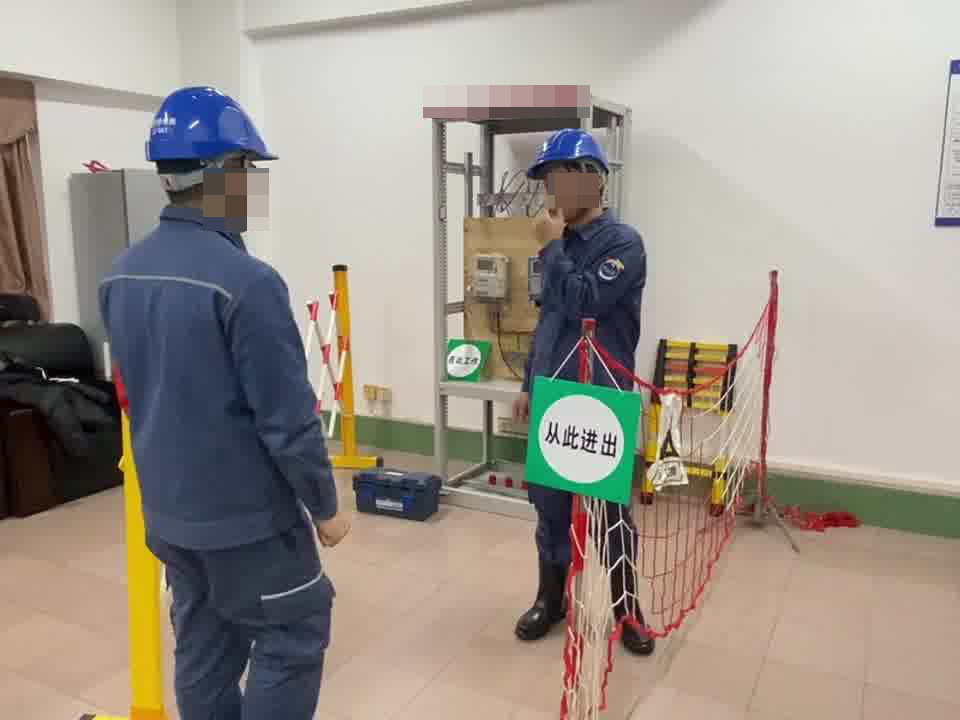downsuit: (164, 549, 333, 720), (523, 482, 640, 564)
halt: (140, 80, 280, 231), (525, 128, 612, 224)
hand: (529, 206, 565, 251), (314, 510, 352, 549)
inear: (213, 159, 247, 199), (576, 163, 609, 197)
intosign: (522, 374, 641, 510)
person: (94, 76, 370, 720), (510, 125, 661, 657), (507, 127, 660, 405)
shoe: (605, 558, 654, 653), (515, 557, 571, 637)
sleeve: (595, 255, 625, 284)
upsuit: (96, 219, 343, 544), (522, 215, 650, 388)
worksign: (442, 336, 492, 382)
